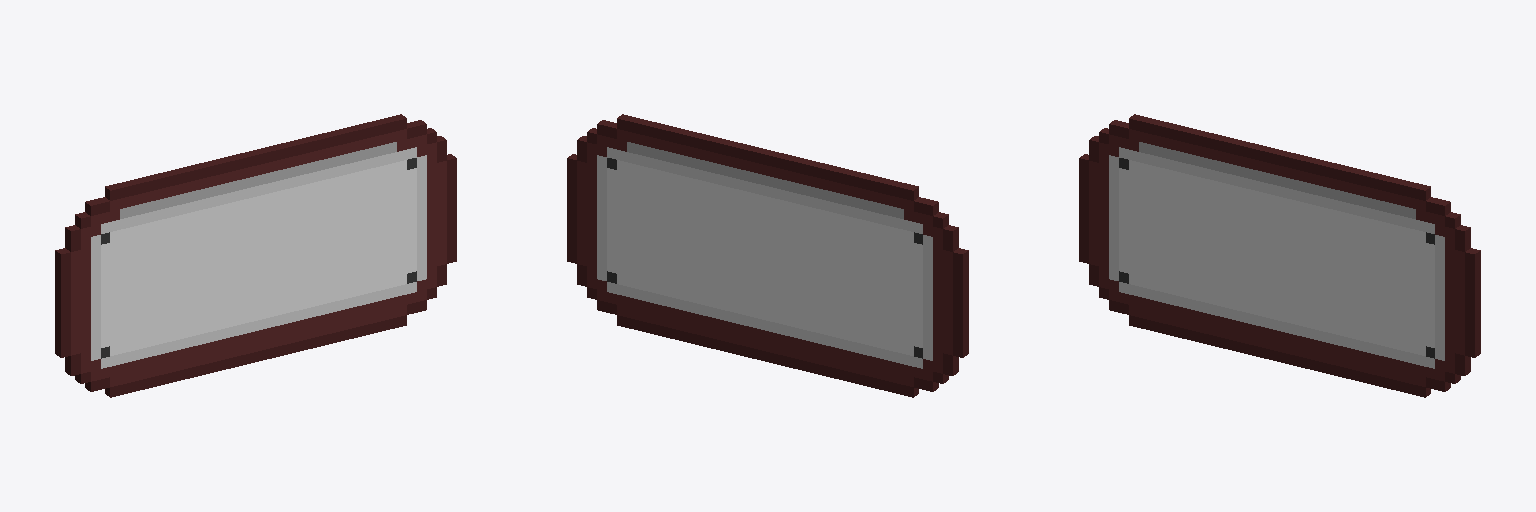
The picture shows the model from 3 angles: view 1: azimuth 30°, elevation 25°; view 2: azimuth 150°, elevation 25°; view 3: azimuth 330°, elevation 25°; orthographic projection.
Parts seen in each view (by area): view 1: BonusSign; view 2: BonusSign; view 3: BonusSign.
Boxes of the visible parts, x1,y1,x2,y2 form: BonusSign: [55, 114, 456, 397]; BonusSign: [567, 114, 968, 397]; BonusSign: [1079, 114, 1480, 397].
Size of the model in its own units: 40 by 20 by 1.
1 materials, 1 textured.